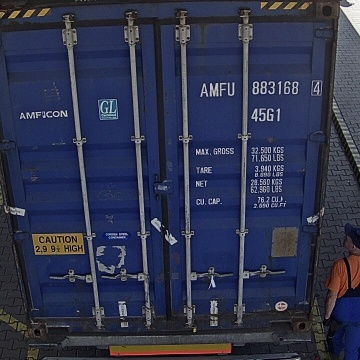serial_id: (201, 80, 322, 95)
